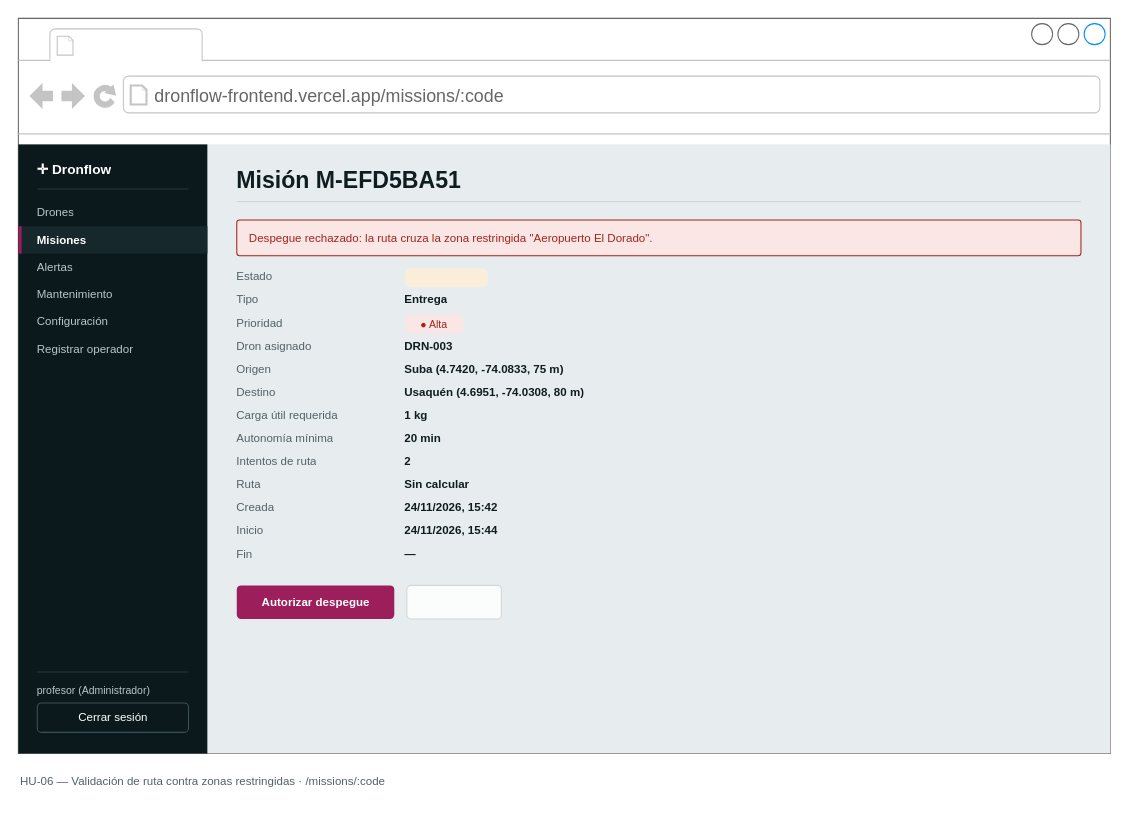
Image size: 1129x828. Some labels were removed from this diagram. Each missing label, with the centre of its shape:
"Actualizar" belongs at (453,601).
"● Pendiente" belongs at (445,277).
